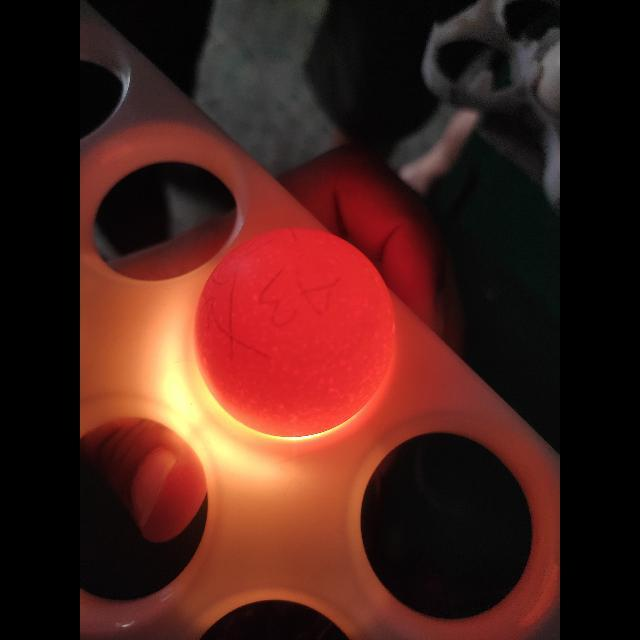Infertile: (197, 230, 391, 430)
